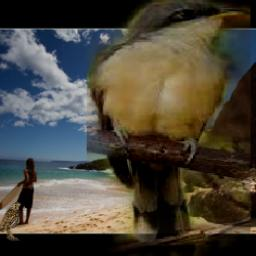Cuckoo: (88, 0, 252, 256)
Sparrow: (0, 202, 21, 242)
